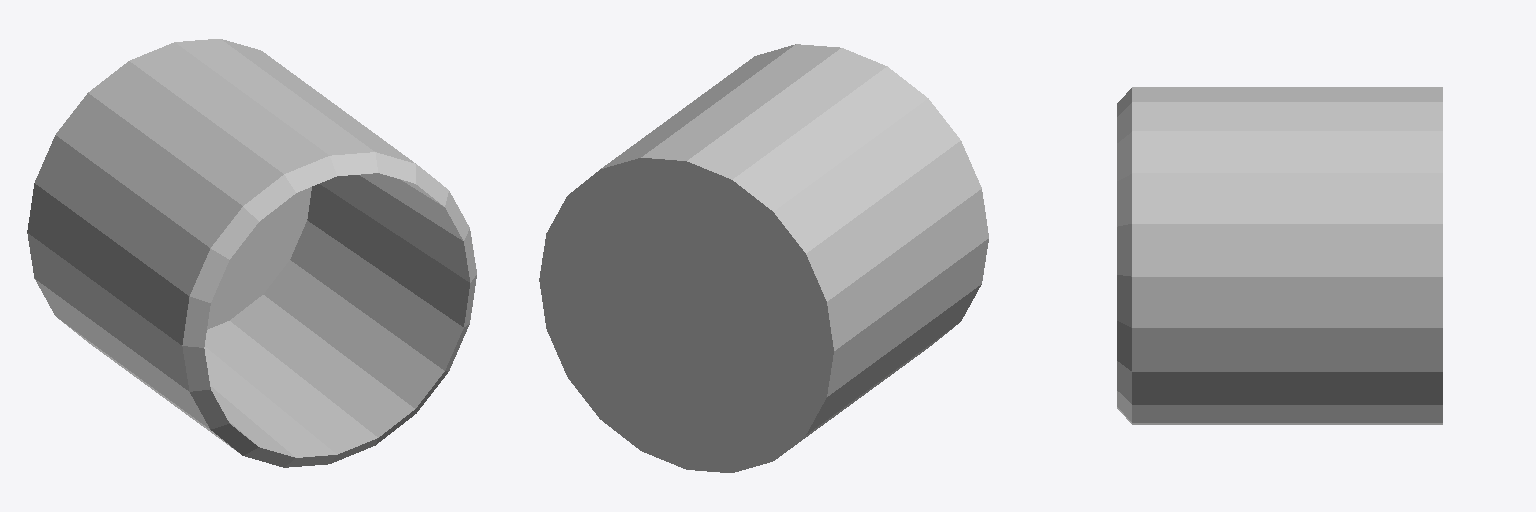
File: bin.obj
The picture shows the model from 3 angles: view 1: azimuth 30°, elevation 25°; view 2: azimuth 150°, elevation 25°; view 3: azimuth 270°, elevation 25°; orthographic projection.
Parts seen in each view (by area): view 1: Cylinder_Cylinder.005; view 2: Cylinder_Cylinder.005; view 3: Cylinder_Cylinder.005.
Boxes of the visible parts, x1,y1,x2,y2 form: Cylinder_Cylinder.005: [27, 39, 476, 467]; Cylinder_Cylinder.005: [539, 44, 988, 472]; Cylinder_Cylinder.005: [1117, 87, 1442, 424].
Size of the model in its own units: 2 by 2 by 1.91.